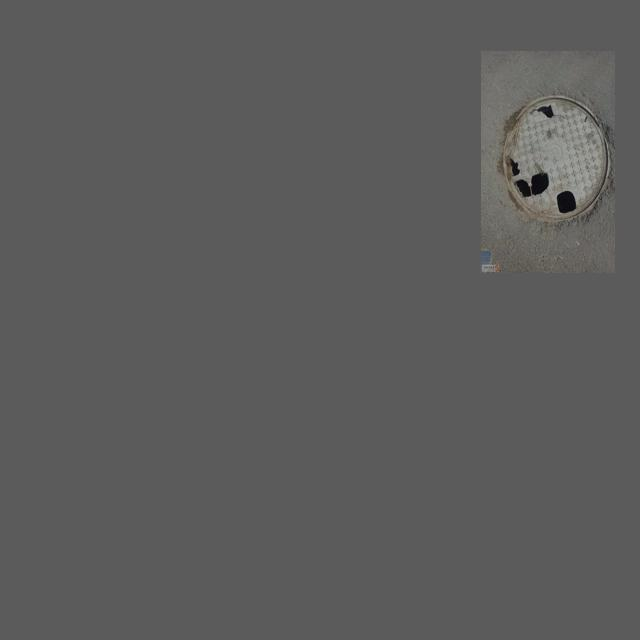broke: (496, 91, 611, 225)
